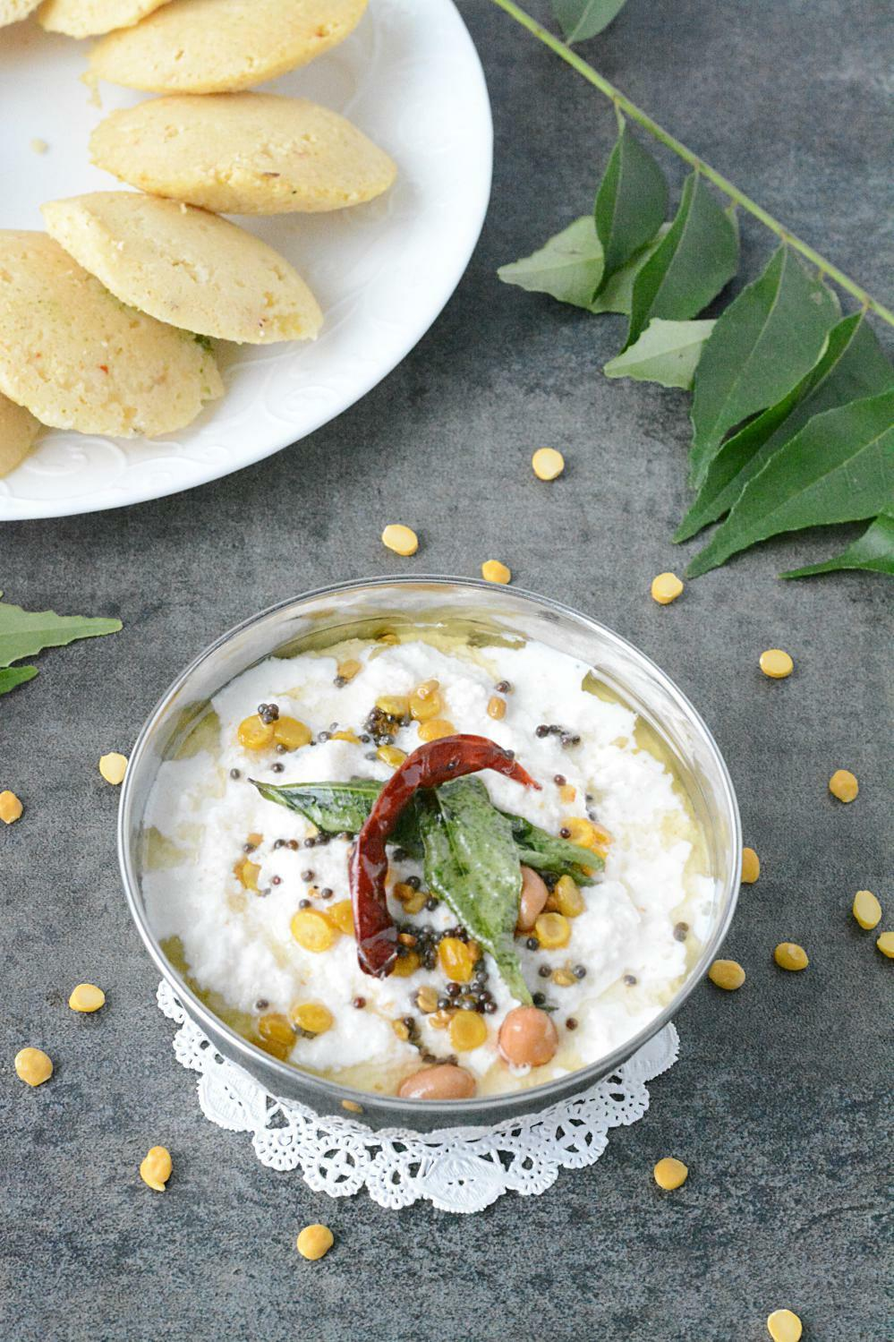CoconutChutney: (141, 622, 720, 1106)
